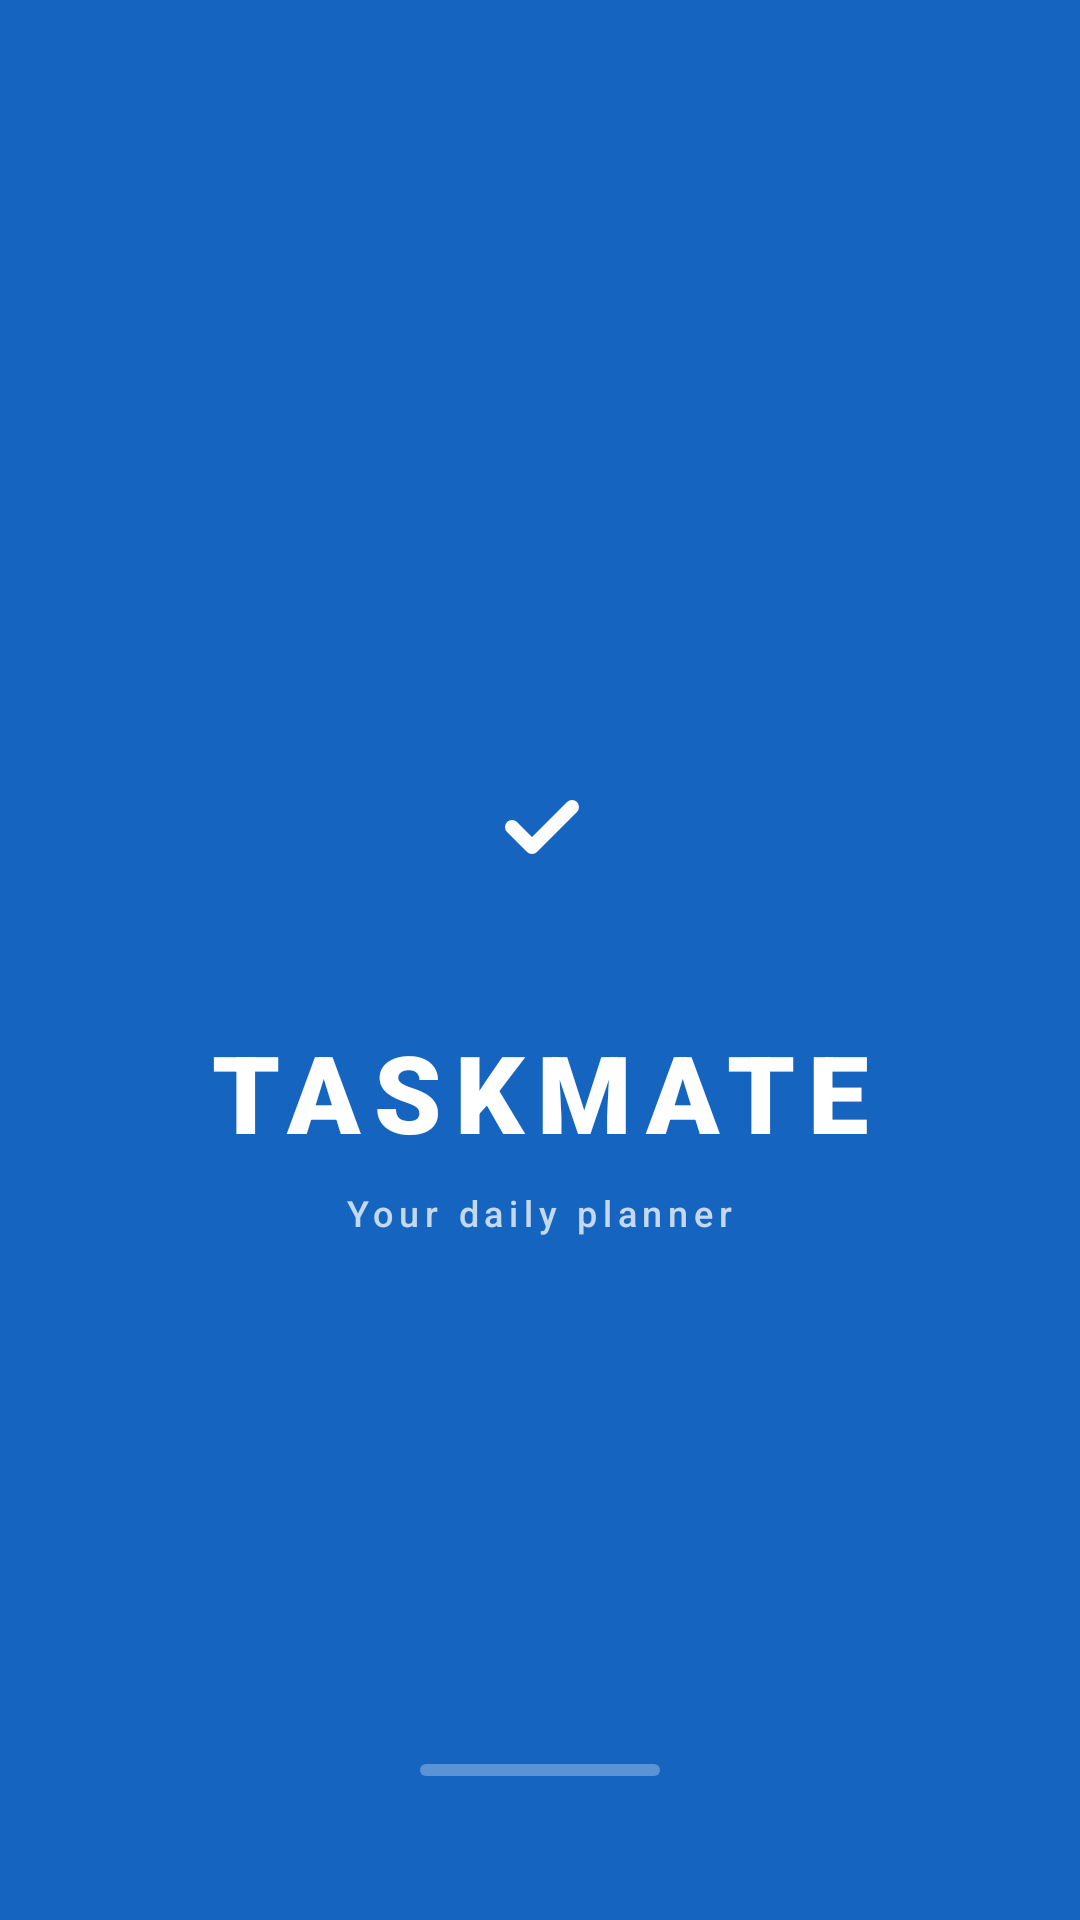

Where to tap for icons on this 1080*1920 app screen, as (x=x, y=y):
check: (x=542, y=827)
